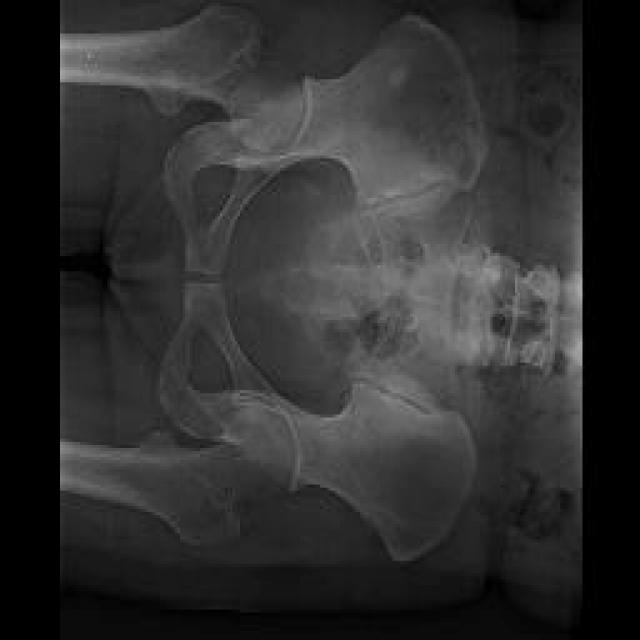normal: (54, 9, 492, 276), (60, 283, 476, 556)
